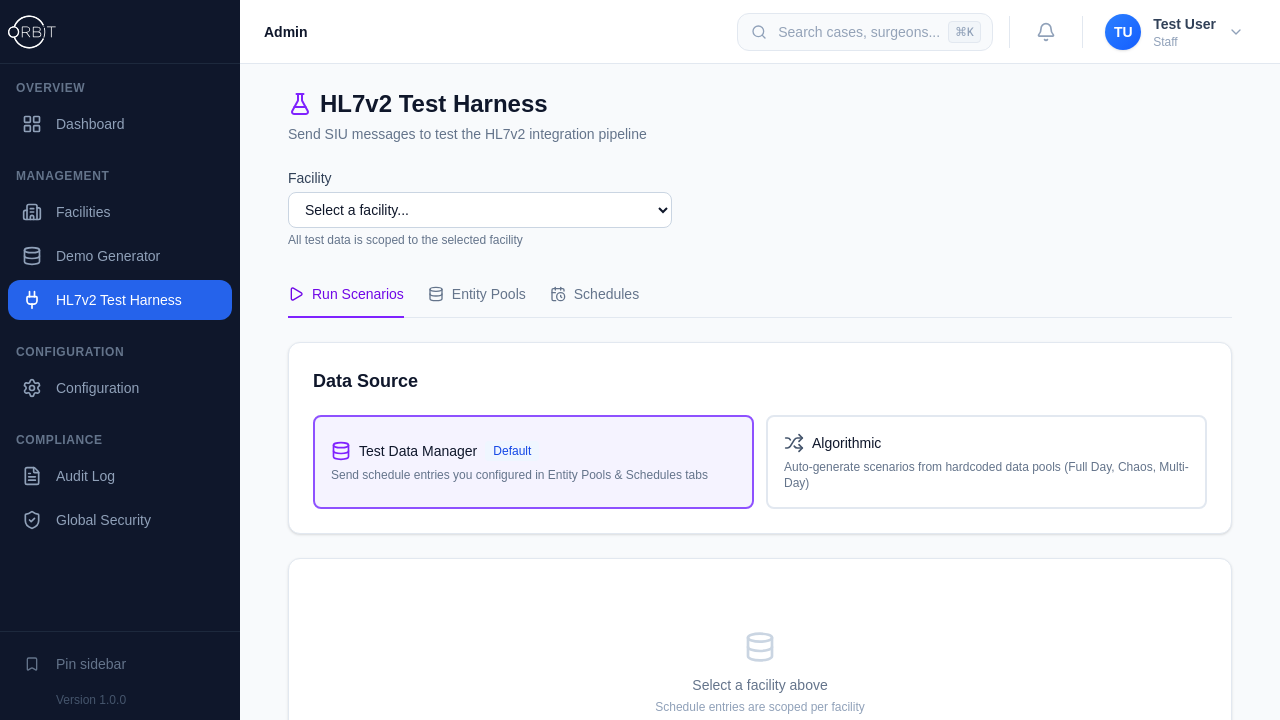
it: HL7v2TestHarnessPage - Workflow Tests › persists entity pool data across tab switches
Step 1. Click the button "Entity Pools" → [477, 295], box x1=428 y1=272 x2=526 y2=318
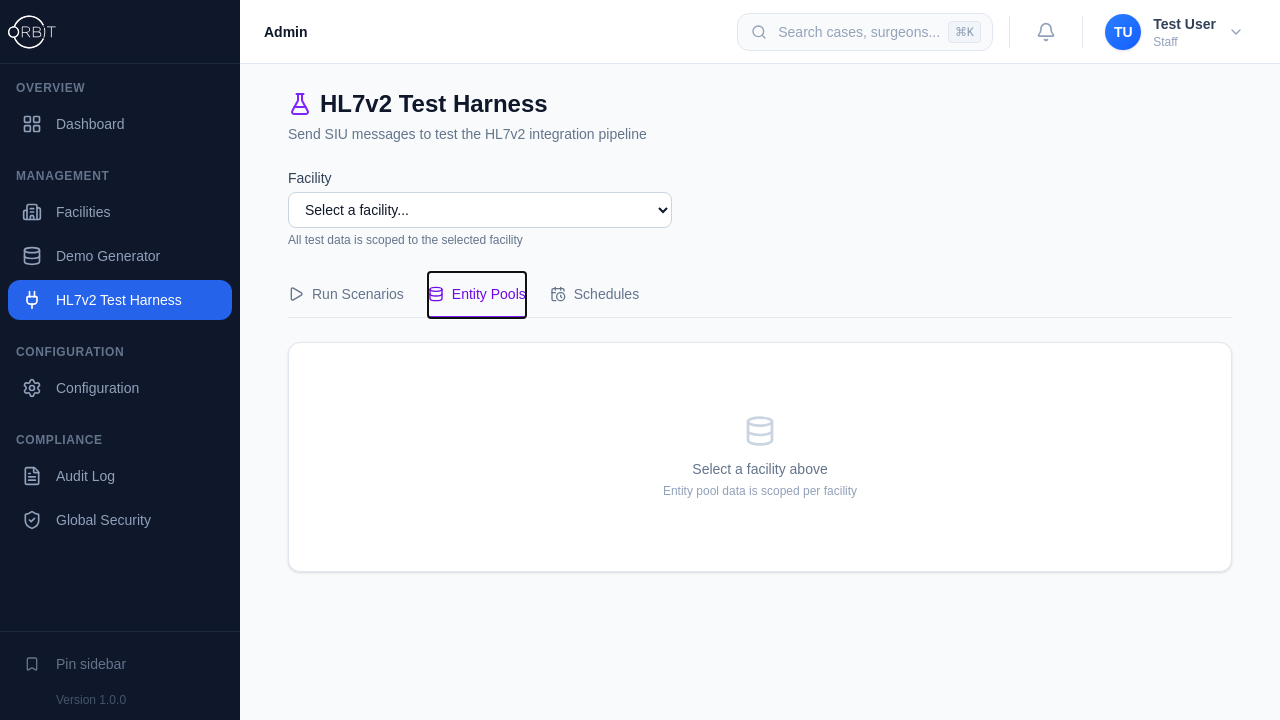
Note: Select facility first
Step 2. Select "Test Facility 1" in the dropdown → [480, 210], box x1=288 y1=192 x2=672 y2=228
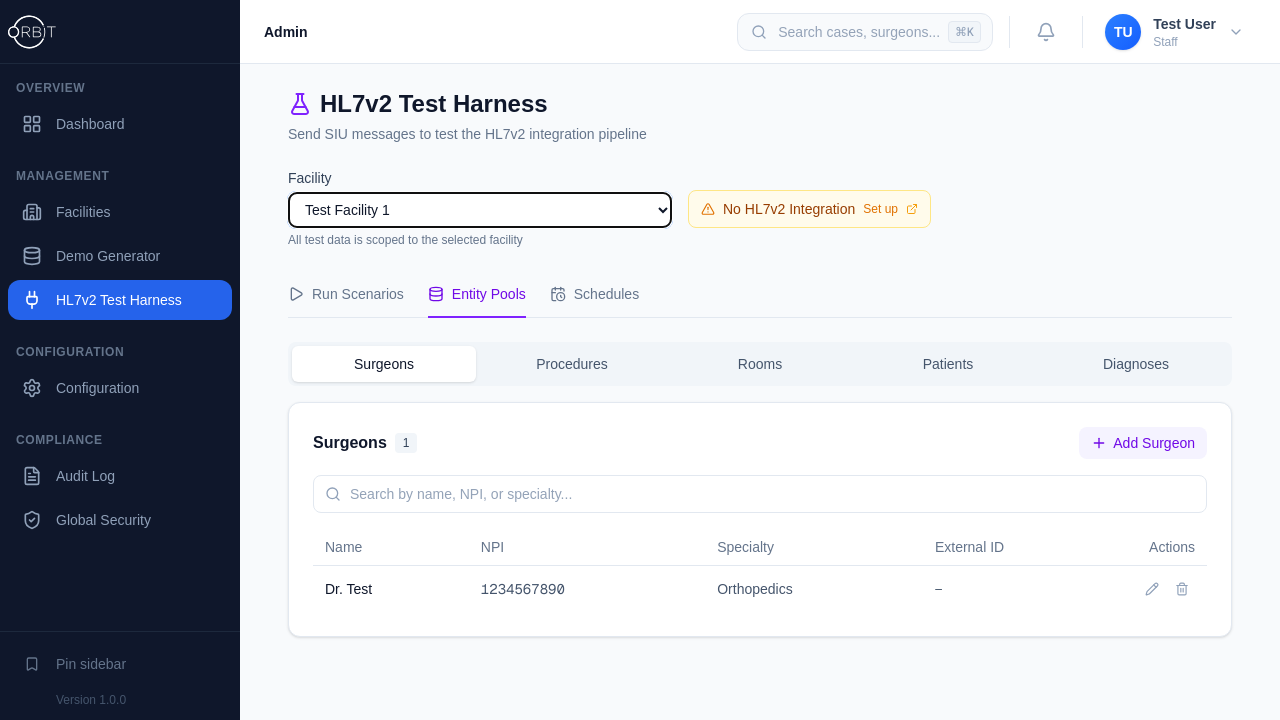
Expected: the text "Dr. Test" is shown, x1=313 y1=566 x2=469 y2=612
Note: Switch to Procedures sub-tab
Step 3. Click the button "Procedures" → [572, 364], box x1=480 y1=346 x2=664 y2=382
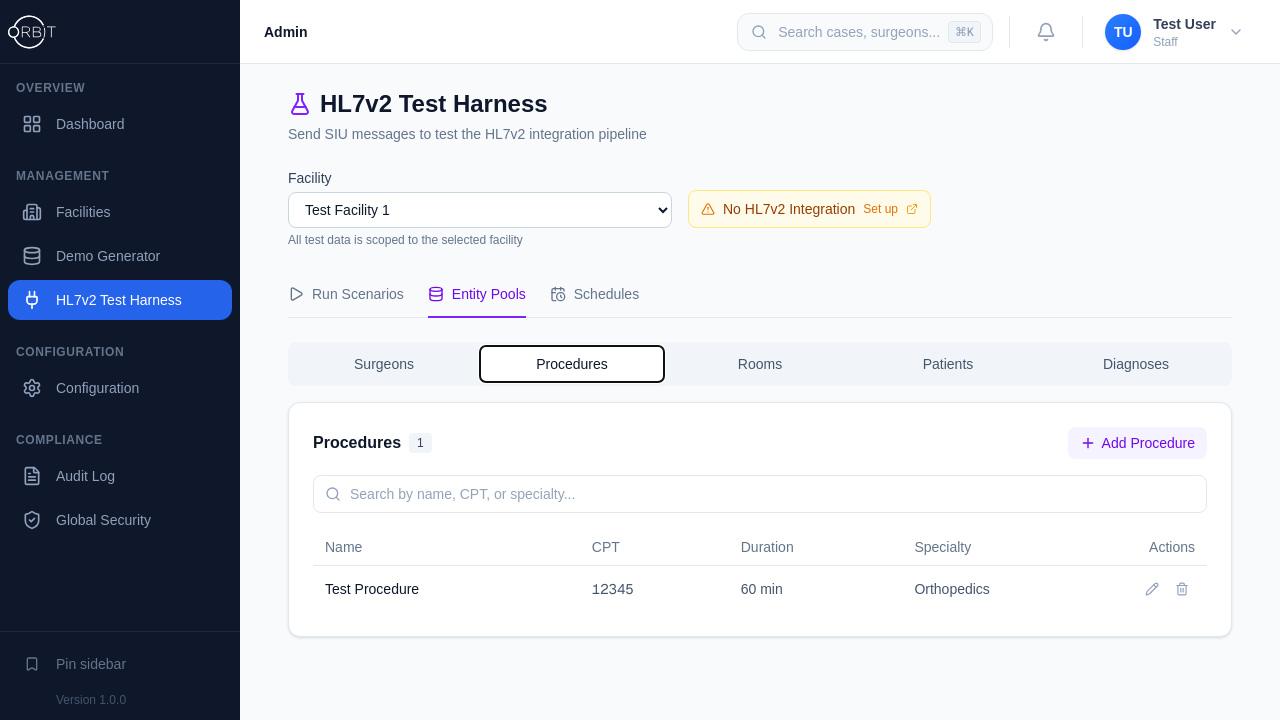
Expected: the text "Test Procedure" is shown, x1=313 y1=566 x2=580 y2=612
Note: Switch back to Surgeons sub-tab
Step 4. Click the button "Surgeons" → [384, 364], box x1=292 y1=346 x2=476 y2=382
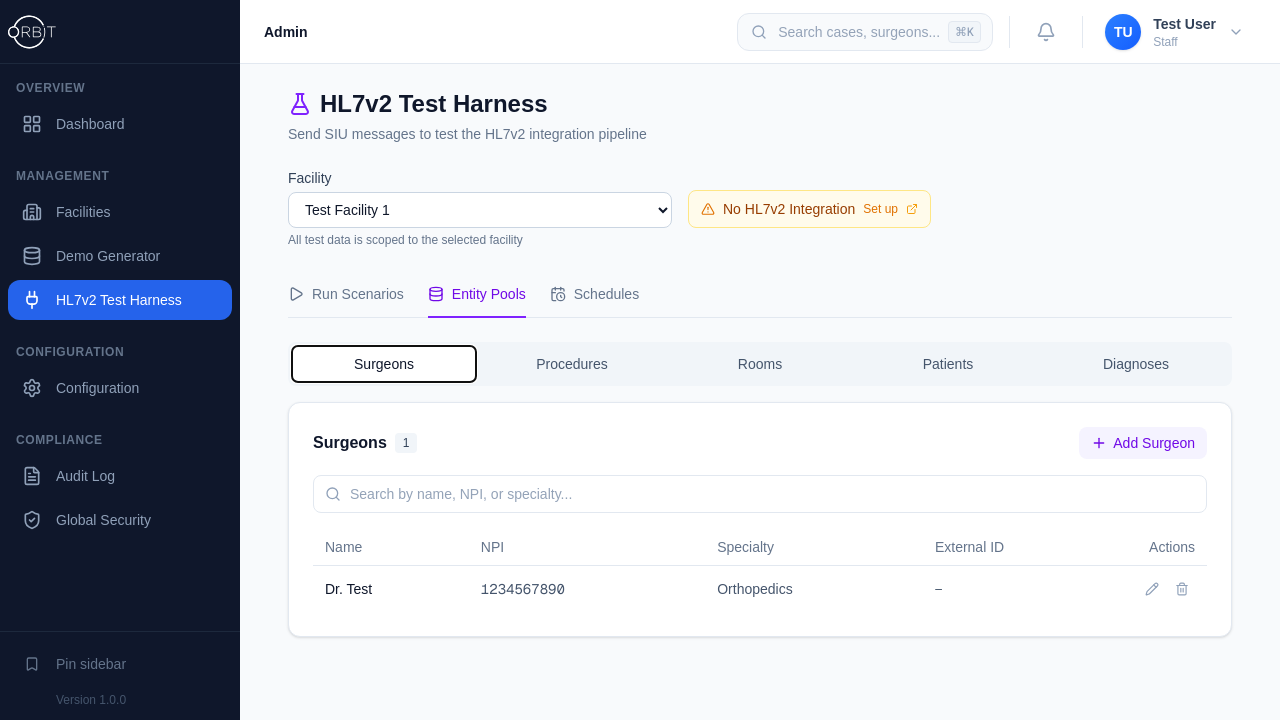
Expected: the text "Dr. Test" is shown, x1=313 y1=566 x2=469 y2=612
Note: Switch to Run Scenarios top tab
Step 5. Click the button "Run Scenarios" → [346, 295], box x1=288 y1=272 x2=404 y2=318
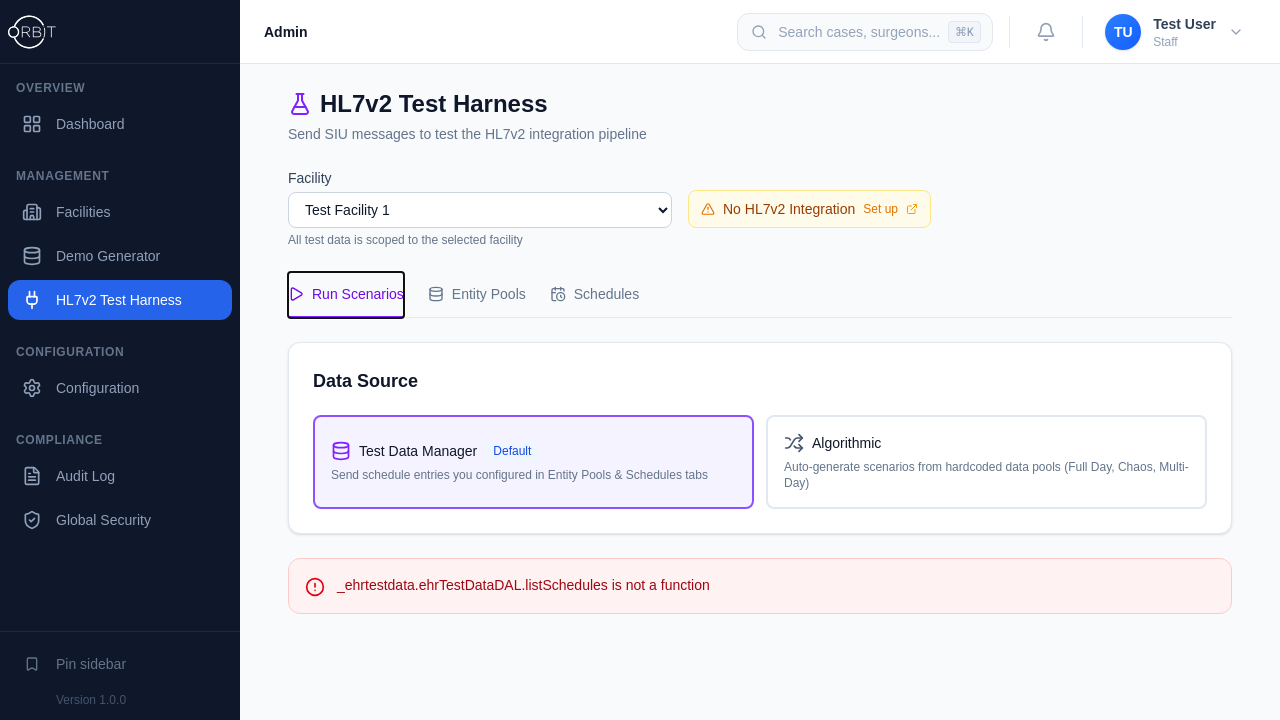
Note: Switch back to Entity Pools
Step 6. Click the button "Entity Pools" → [477, 295], box x1=428 y1=272 x2=526 y2=318
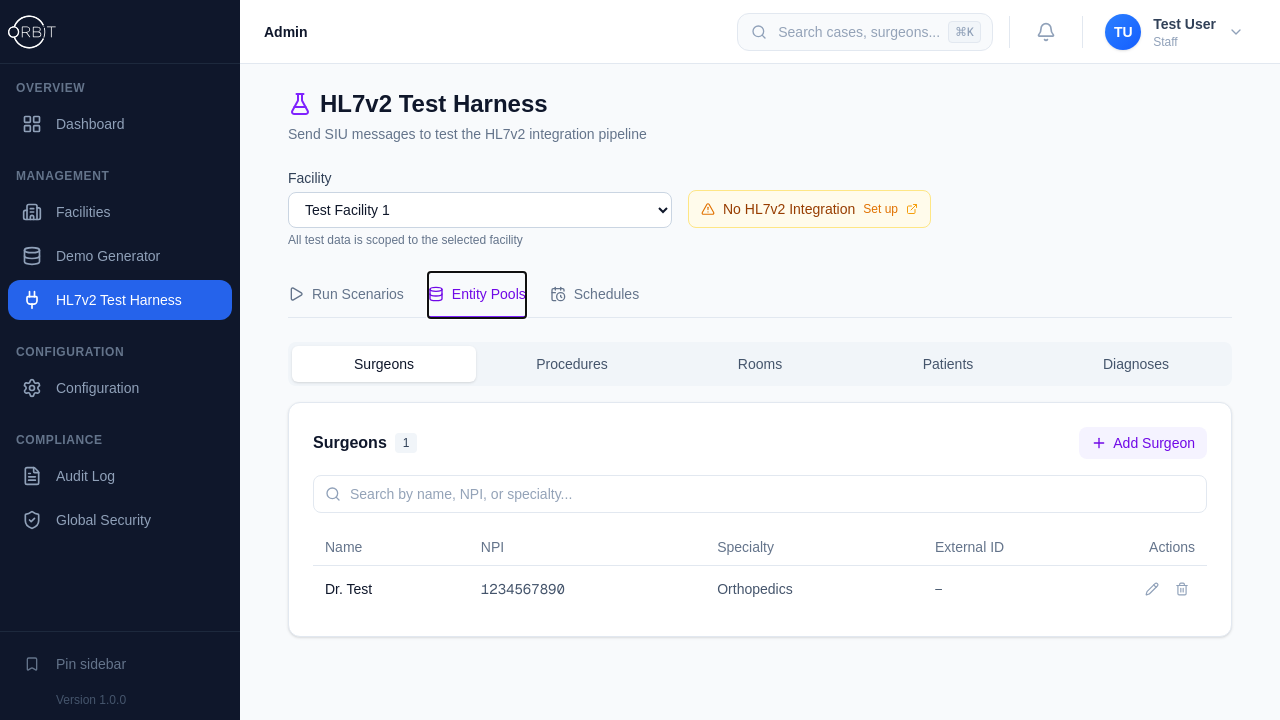
Expected: the text "Dr. Test" is shown, x1=313 y1=566 x2=469 y2=612
